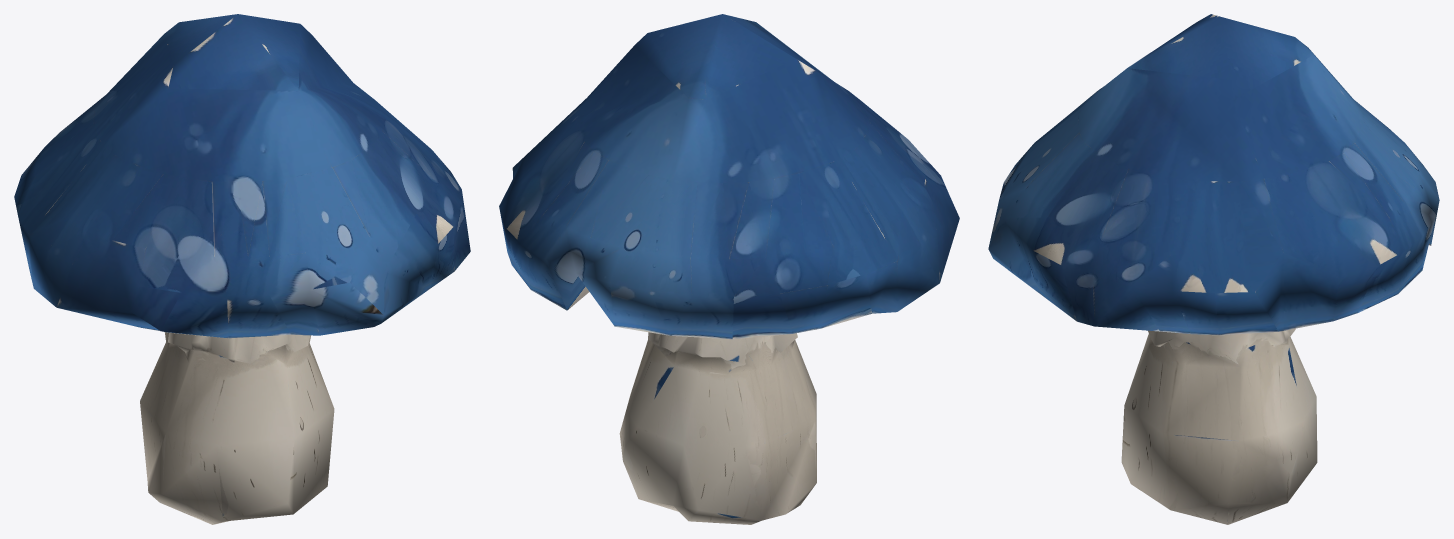
The model's file is obj_mushroom_blue.glb.
3 views of the same model, side by side, from view 1: azimuth 30°, elevation 25°; view 2: azimuth 150°, elevation 25°; view 3: azimuth 270°, elevation 25° (orthographic).
Size of the model in its own units: 0.7744 by 0.9521 by 0.7827.
Materials: 1 (1 with a texture image).
